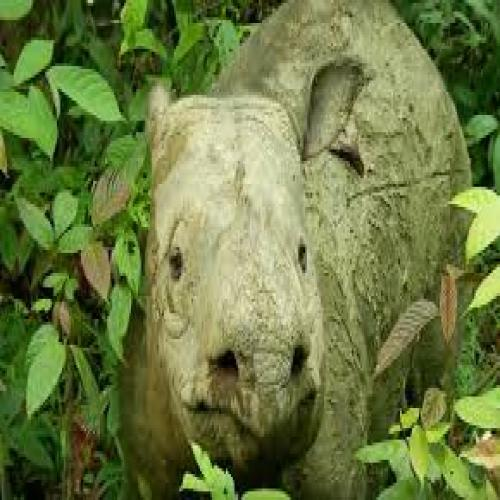rhino-endangered: (114, 11, 468, 488)
